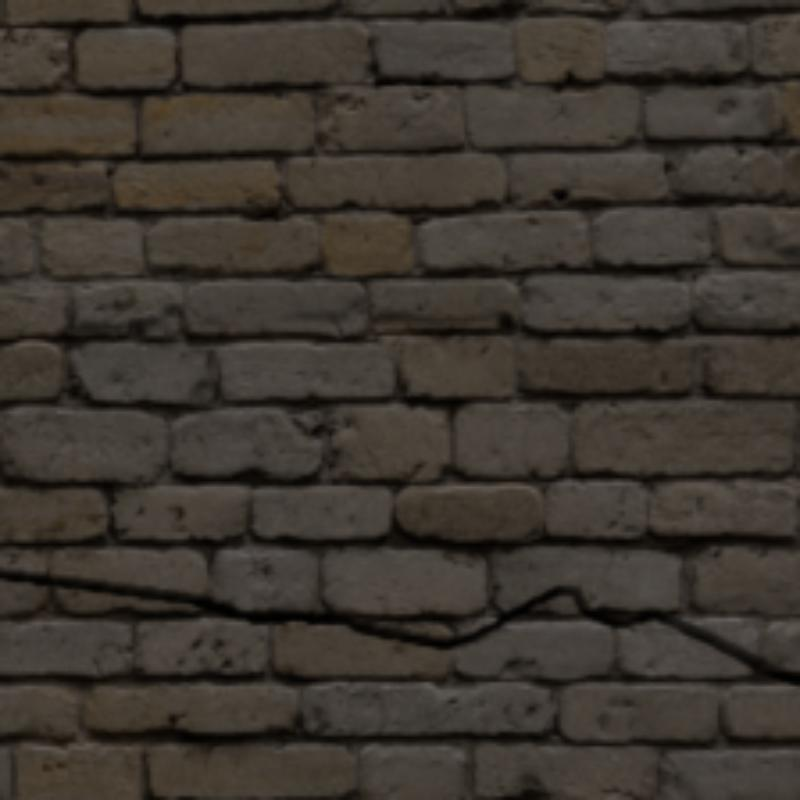pothole: (0, 568, 796, 682)
